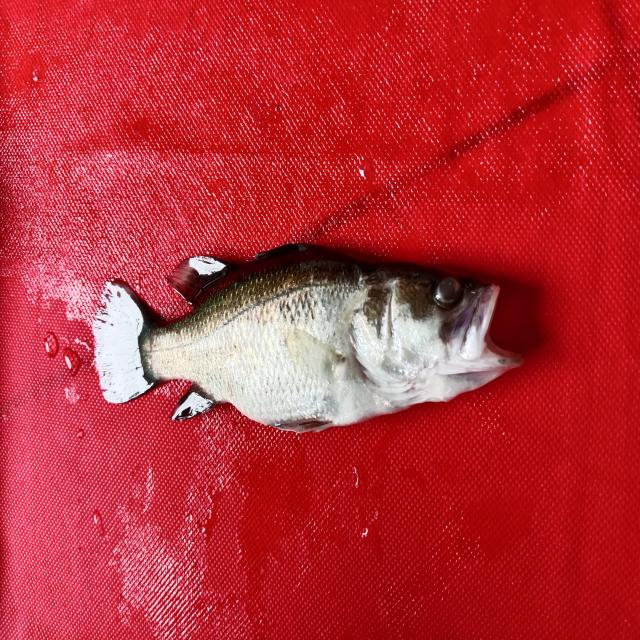ikan: (80, 226, 558, 452)
